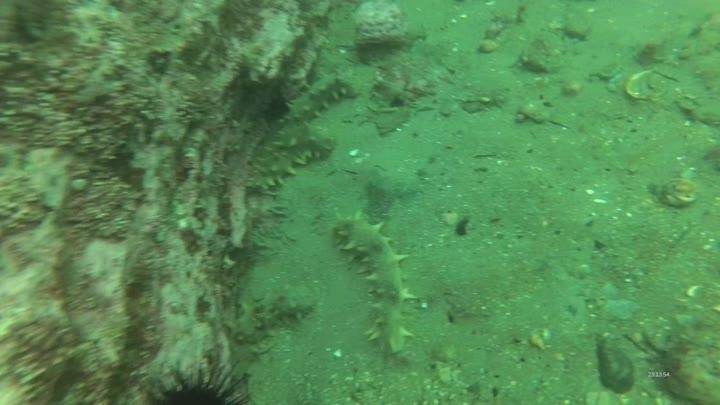echinus: (139, 355, 256, 404)
holothurian: (330, 210, 417, 358), (243, 123, 336, 197), (229, 284, 318, 347), (275, 71, 360, 129)
